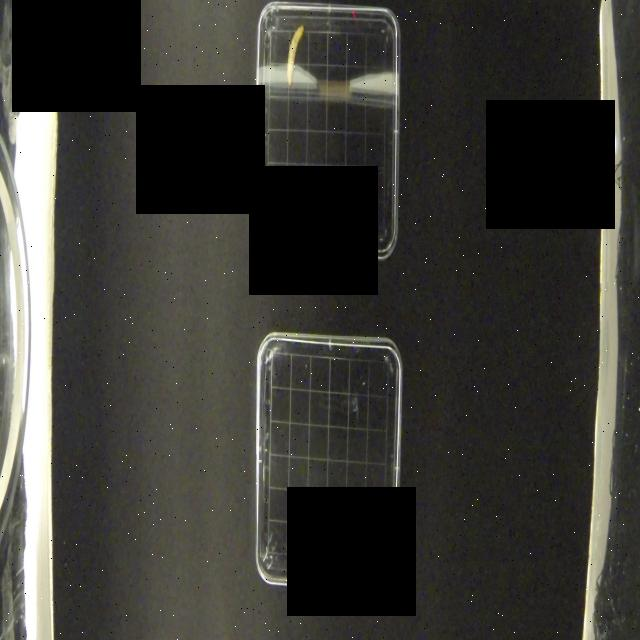larva: (286, 21, 306, 89), (378, 519, 394, 565)
